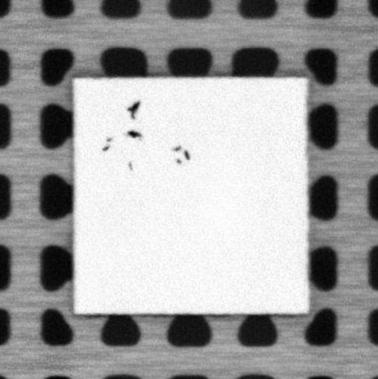DIE_INK: (171, 144, 191, 164), (125, 99, 142, 120), (126, 128, 144, 140), (99, 136, 112, 152), (126, 159, 134, 170)
